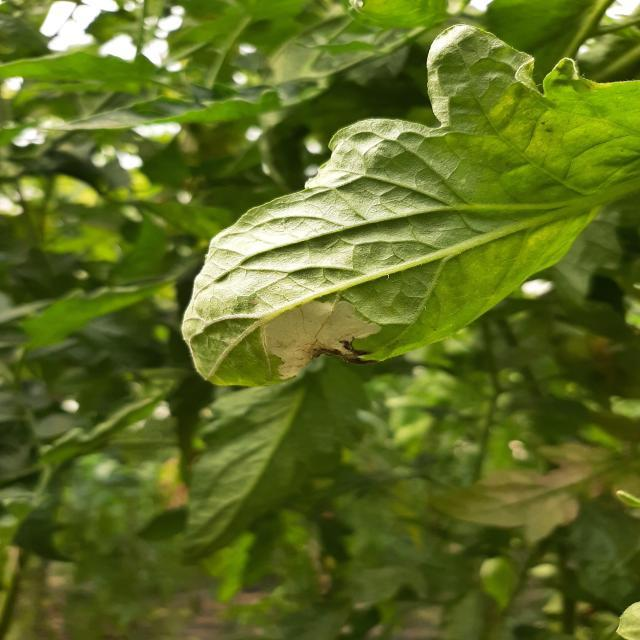Tuta absoluta: (256, 282, 387, 386)
